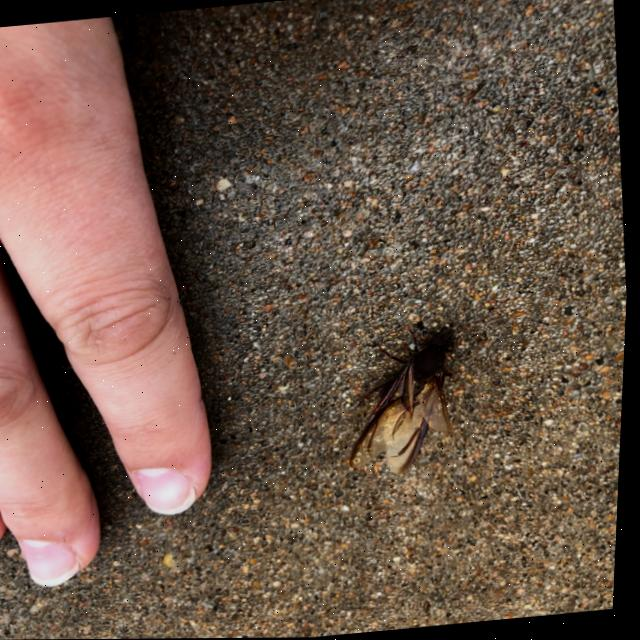Alive-Female-Alate: (341, 314, 485, 479)
